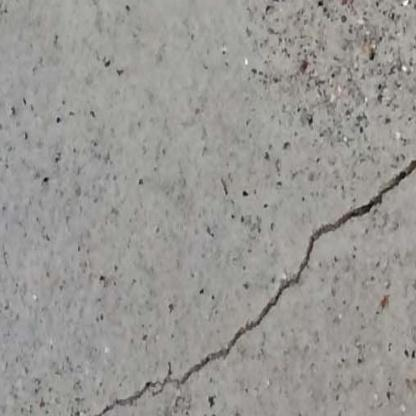Cracks: (48, 149, 416, 416)
